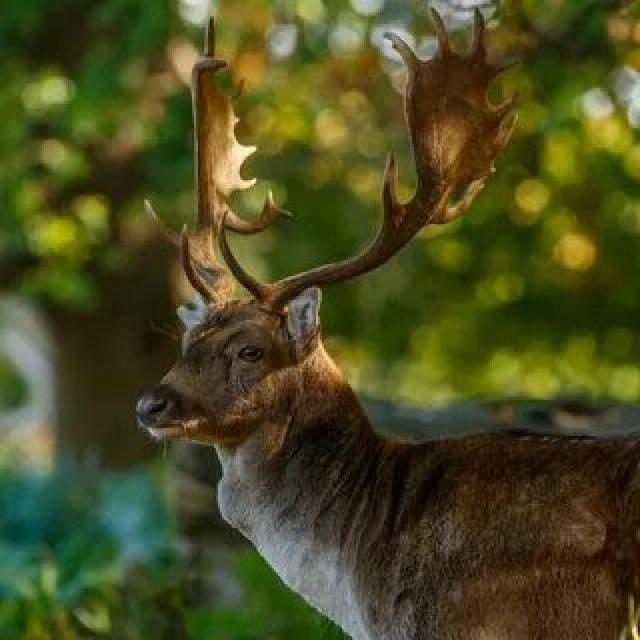deer: (101, 85, 640, 640)
